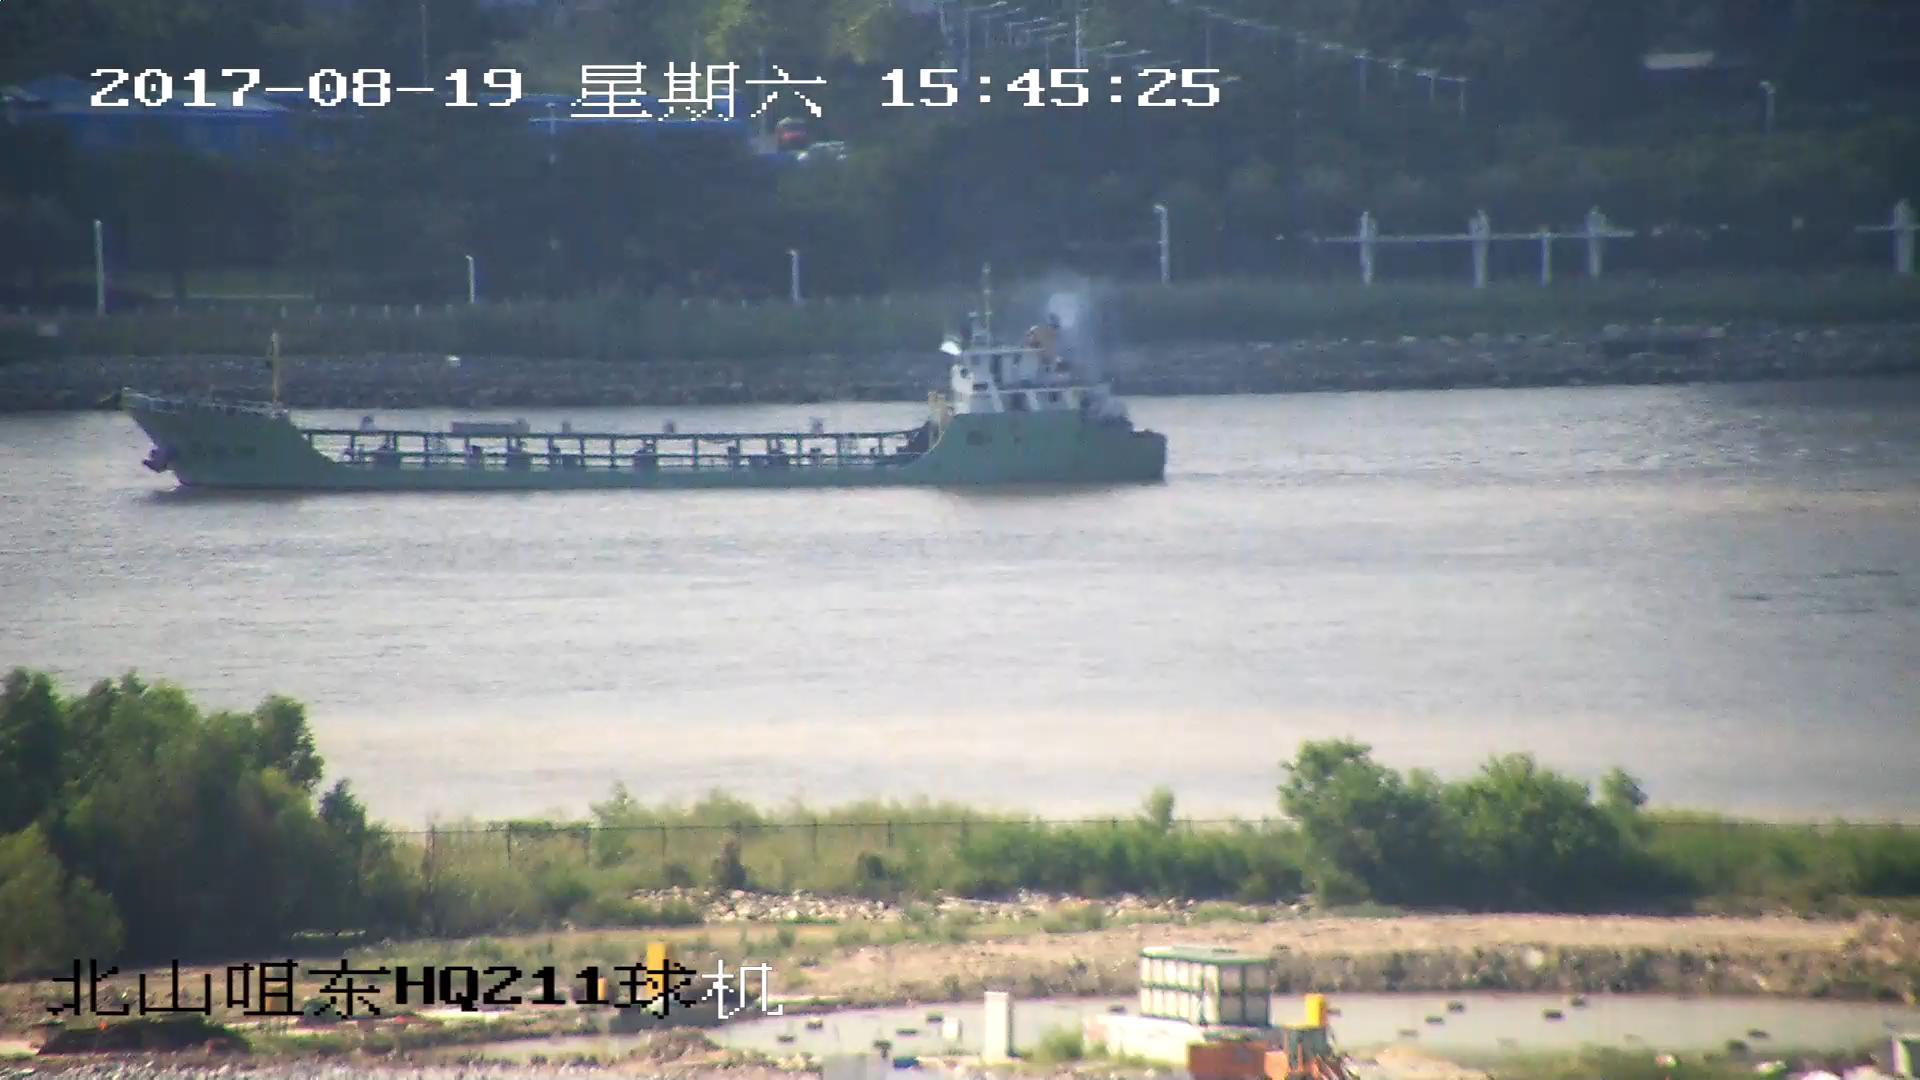Ship: (128, 266, 1174, 489)
